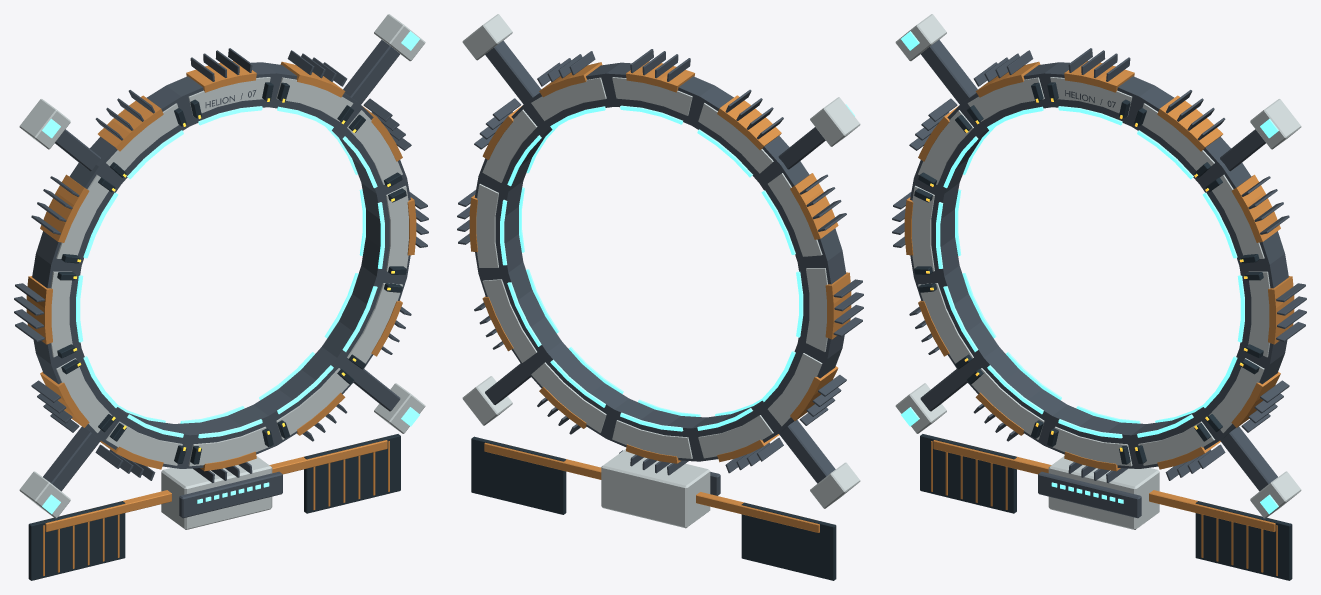
The model's file is helion_relay.glb.
3 views of the same model, side by side, from view 1: azimuth 30°, elevation 25°; view 2: azimuth 150°, elevation 25°; view 3: azimuth 330°, elevation 25° (orthographic).
Parts seen in each view (by area): view 1: Relay_forged titanium, Relay_ceramic armor, Relay_helion brass, Relay_radiator, Relay_navigation cyan; view 2: Relay_forged titanium, Relay_ceramic armor, Relay_helion brass, Relay_radiator, Relay_navigation cyan; view 3: Relay_forged titanium, Relay_ceramic armor, Relay_helion brass, Relay_radiator, Relay_navigation cyan.
Boxes of the visible parts, x1,y1,x2,y2 form: Relay_forged titanium: [14, 39, 428, 518]; Relay_ceramic armor: [19, 14, 425, 529]; Relay_helion brass: [26, 61, 416, 576]; Relay_radiator: [28, 82, 406, 580]; Relay_navigation cyan: [42, 31, 419, 514]; Relay_forged titanium: [457, 40, 863, 495]; Relay_ceramic armor: [462, 14, 860, 528]; Relay_helion brass: [469, 61, 851, 532]; Relay_radiator: [471, 436, 836, 580]; Relay_navigation cyan: [500, 104, 854, 431]; Relay_forged titanium: [892, 39, 1306, 518]; Relay_ceramic armor: [895, 14, 1301, 529]; Relay_helion brass: [904, 61, 1294, 576]; Relay_radiator: [914, 82, 1292, 580]; Relay_navigation cyan: [901, 31, 1278, 514].
Bounding box in the file's own units: 237 × 276 × 31.5.
